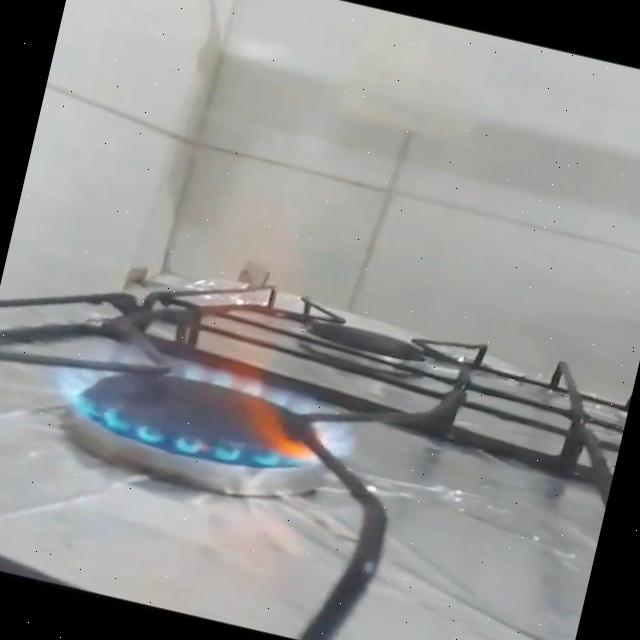fire: (36, 160, 414, 498)
